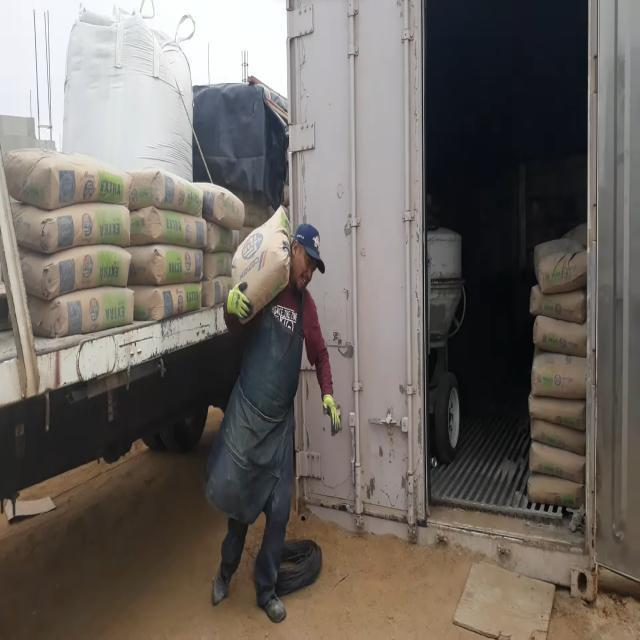gunny_bag: (3, 148, 131, 208), (231, 206, 291, 317), (10, 200, 130, 253), (19, 244, 130, 299), (27, 286, 133, 336), (128, 168, 203, 215), (129, 205, 207, 248), (128, 243, 202, 284), (532, 348, 587, 399), (129, 282, 201, 319), (194, 181, 245, 229), (537, 245, 588, 293), (530, 441, 587, 483), (530, 283, 588, 323), (534, 315, 588, 356), (530, 392, 587, 430), (528, 472, 586, 508), (531, 418, 587, 455)
